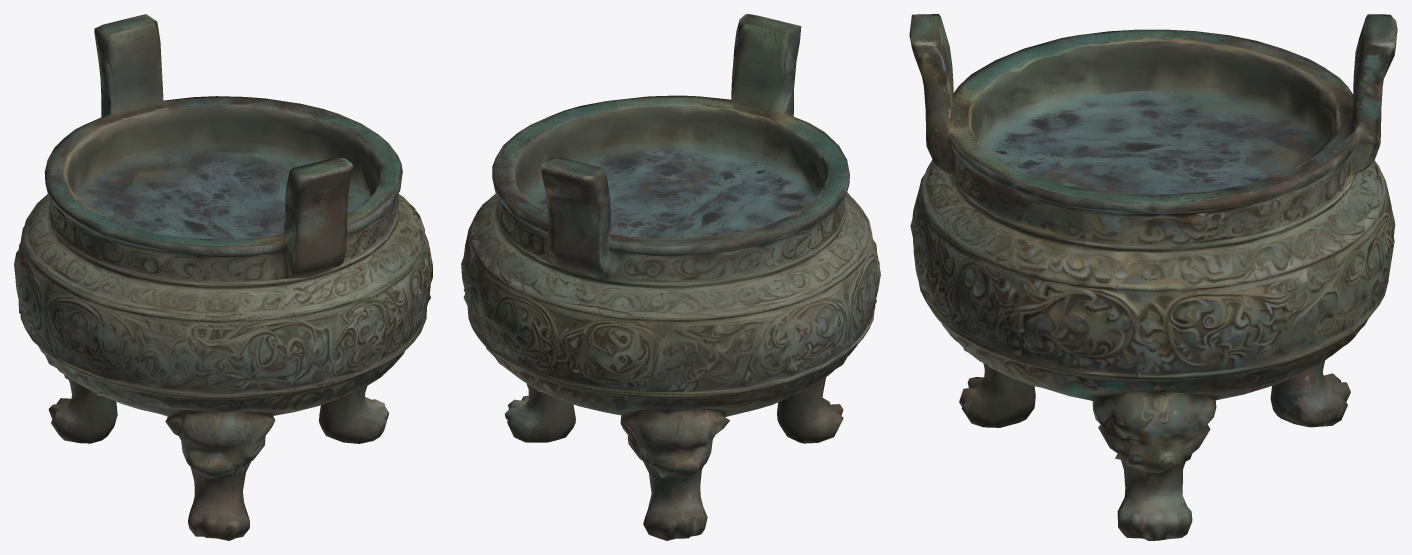
File: prop_shaolin_censer.glb
3 renders of one model, left to right at view 1: azimuth 30°, elevation 25°; view 2: azimuth 150°, elevation 25°; view 3: azimuth 270°, elevation 25°, orthographic. The views are drawn at different scales.
Visible parts, largest first — view 1: tripo_node_432c8884-3a1e-4120-b1ab-ffb6a31b4244; view 2: tripo_node_432c8884-3a1e-4120-b1ab-ffb6a31b4244; view 3: tripo_node_432c8884-3a1e-4120-b1ab-ffb6a31b4244.
Part boxes in pixels (x1,y1,x2,y2): tripo_node_432c8884-3a1e-4120-b1ab-ffb6a31b4244: (14, 14, 432, 540); tripo_node_432c8884-3a1e-4120-b1ab-ffb6a31b4244: (461, 14, 880, 540); tripo_node_432c8884-3a1e-4120-b1ab-ffb6a31b4244: (909, 14, 1397, 540).
Size of the model in its own units: 0.983 by 0.979 by 1.
Materials: 1 (1 with a texture image).
